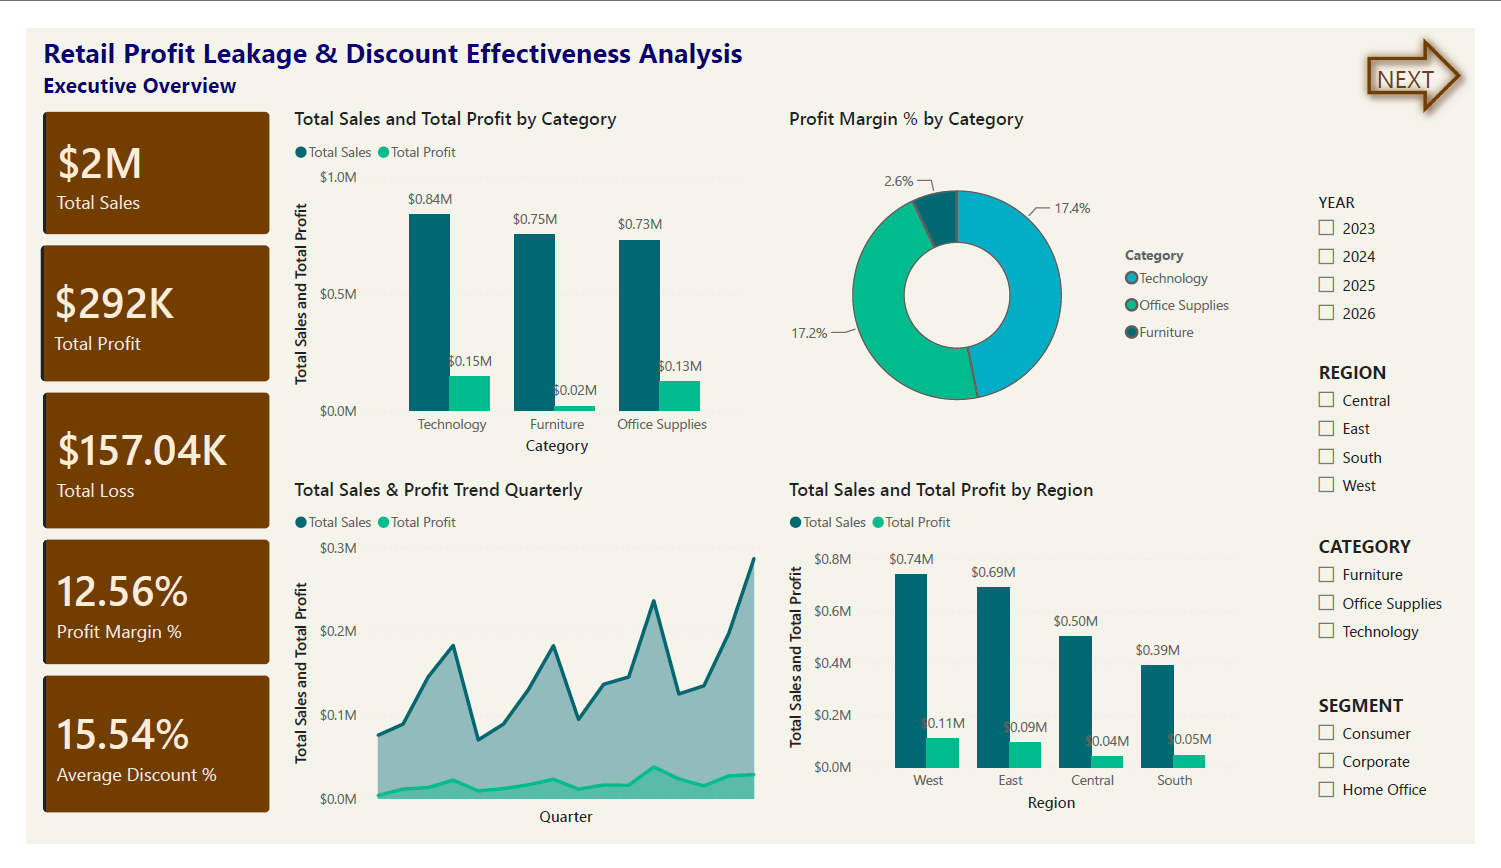

The page's visual inventory and layout, read from the dashboard file:
{"tool":"powerbi","page":{"name":"Executive Overview ","canvas":[1280,720],"ordinal":0},"visuals":[{"type":"textbox","box":[9.9,0,647.3,69.1],"z":0},{"type":"cardVisual","fields":{"Data":["_Measures.Total Sales"]},"box":[9.9,69.1,210.1,117.6],"z":1000},{"type":"cardVisual","fields":{"Data":["_Measures.Total Profit"]},"box":[8.1,186.7,211.9,130.2],"z":2000},{"type":"cardVisual","fields":{"Data":["_Measures.Profit Margin %"]},"box":[10,447,210,120],"z":3000},{"type":"cardVisual","fields":{"Data":["_Measures.Average Discount %"]},"box":[9.9,567.4,210.1,130.2],"z":4000},{"type":"cardVisual","fields":{"Data":["_Measures.Total Loss"]},"box":[9.9,316.9,210.1,130.2],"z":5000},{"type":"slicer","fields":{"Values":["dim_date.year"]},"box":[1129.2,140.1,98.2,147.8],"z":6000},{"type":"slicer","fields":{"Values":["dim_geography.region"]},"box":[1129.2,287.9,131.3,153.7],"z":7000},{"type":"slicer","fields":{"Values":["dim_customer.segment"]},"box":[1129.2,581.6,150.8,135.2],"z":8000},{"type":"slicer","fields":{"Values":["dim_product.category"]},"box":[1128.9,442.1,148.9,135.3],"z":9000},{"type":"clusteredColumnChart","title":"Total Sales and Total Profit by Category","fields":{"Category":["dim_product.category"],"Y":["_Measures.Total Sales","_Measures.Total Profit"]},"box":[232,69,409,313],"z":10000},{"type":"clusteredColumnChart","title":"Total Sales and Total Profit by Region","fields":{"Category":["dim_geography.region"],"Y":["_Measures.Total Sales","_Measures.Total Profit"]},"box":[669,396,409,301],"z":11000},{"type":"pieChart","title":"Profit Margin % by Category","fields":{"Category":["dim_product.category"],"Y":["_Measures.Profit Margin %"]},"box":[669,69,408,313],"z":12000},{"type":"actionButton","box":[1176.9,0,100.2,83.6],"z":13000},{"type":"areaChart","title":"Total Sales & Profit Trend Quarterly","fields":{"Category":["dim_date.year Hierarchy.year","dim_date.year Hierarchy.quarter"],"Y":["_Measures.Total Sales","_Measures.Total Profit"]},"box":[232,396,425,313],"z":14000}]}

Visuals, with their boxes in screenshot pixels (x1, y1, x2, y2), scaled from the page's 1280x720 canvas onto the 1501x868 screenshot:
textbox: x1=12, y1=0, x2=771, y2=83
cardVisual - _Measures.Total Sales: x1=12, y1=83, x2=258, y2=225
cardVisual - _Measures.Total Profit: x1=9, y1=225, x2=258, y2=382
cardVisual - _Measures.Profit Margin %: x1=12, y1=539, x2=258, y2=684
cardVisual - _Measures.Average Discount %: x1=12, y1=684, x2=258, y2=841
cardVisual - _Measures.Total Loss: x1=12, y1=382, x2=258, y2=539
slicer - dim_date.year: x1=1324, y1=169, x2=1439, y2=347
slicer - dim_geography.region: x1=1324, y1=347, x2=1478, y2=532
slicer - dim_customer.segment: x1=1324, y1=701, x2=1500, y2=864
slicer - dim_product.category: x1=1324, y1=533, x2=1498, y2=696
"Total Sales and Total Profit by Category" clusteredColumnChart: x1=272, y1=83, x2=752, y2=461
"Total Sales and Total Profit by Region" clusteredColumnChart: x1=785, y1=477, x2=1264, y2=840
"Profit Margin % by Category" pieChart: x1=785, y1=83, x2=1263, y2=461
actionButton: x1=1380, y1=0, x2=1498, y2=101
"Total Sales & Profit Trend Quarterly" areaChart: x1=272, y1=477, x2=770, y2=855
